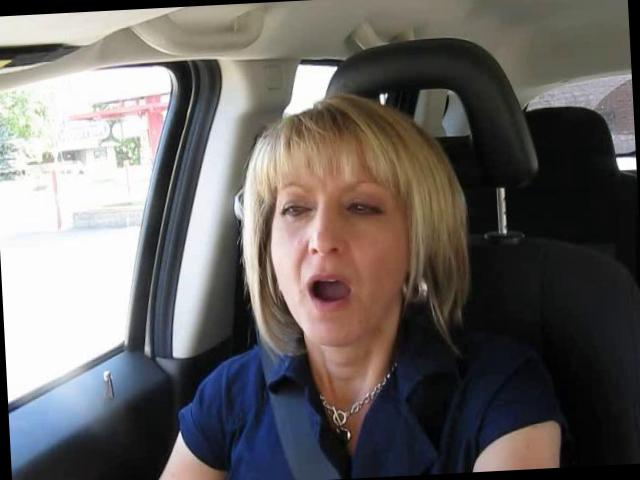eye_open: (336, 190, 389, 230), (272, 192, 314, 230)
face: (262, 162, 412, 353)
mouth_open: (299, 268, 356, 316)
